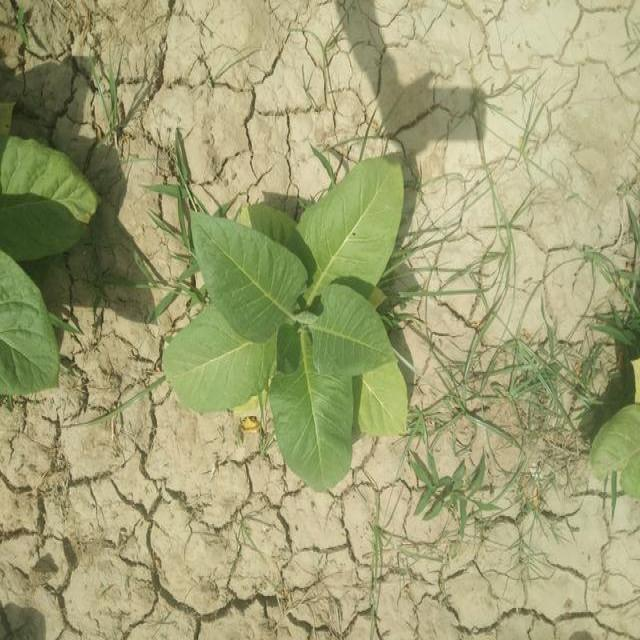crop: (158, 150, 418, 495)
